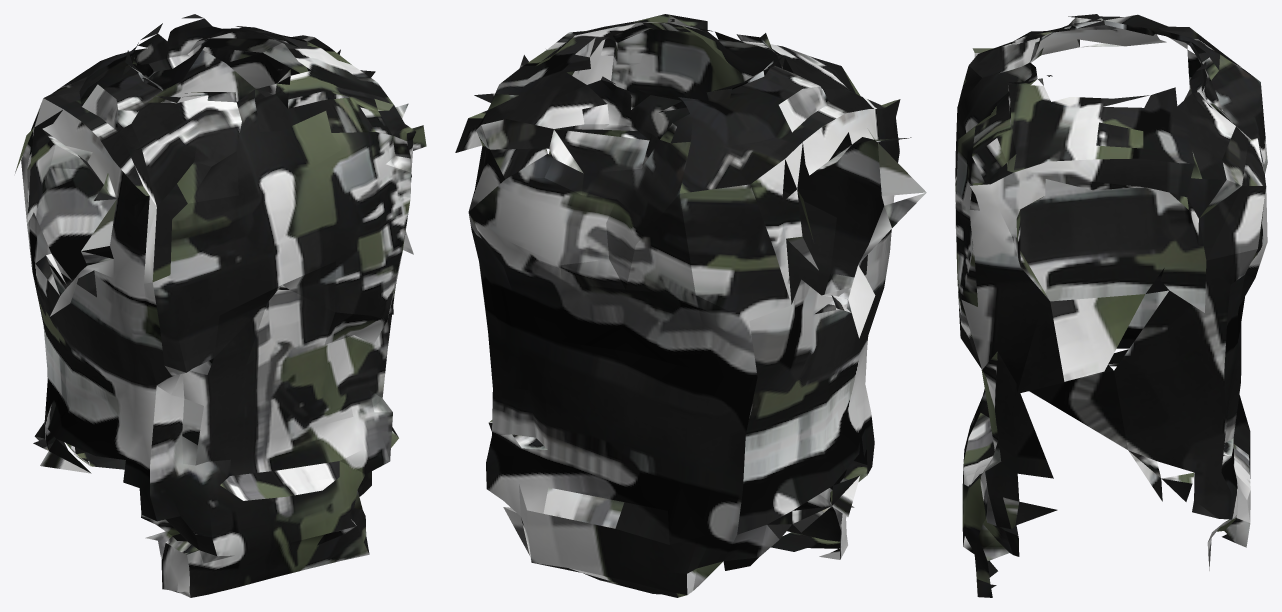
The model's file is soldier_1_torso.obj.
3 renders of one model, left to right at view 1: azimuth 30°, elevation 25°; view 2: azimuth 150°, elevation 25°; view 3: azimuth 270°, elevation 25°, orthographic. The views are drawn at different scales.
Visible parts, largest first — view 1: soldier_1_torso; view 2: soldier_1_torso; view 3: soldier_1_torso.
Part boxes in pixels (x1,y1,x2,y2): soldier_1_torso: (15, 14, 426, 597); soldier_1_torso: (455, 14, 926, 597); soldier_1_torso: (955, 14, 1267, 597).
Size of the model in its own units: 0.4473 by 0.5777 by 0.3256.
